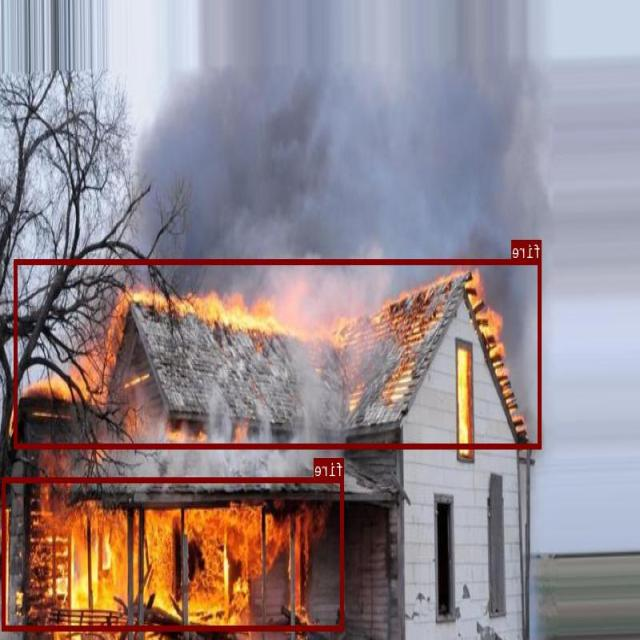fire: (15, 258, 542, 448), (2, 476, 344, 630)
